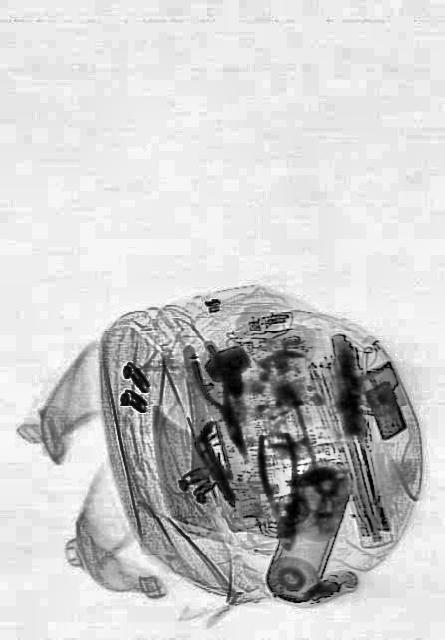Pliers: (186, 340, 256, 468), (254, 426, 308, 556)
